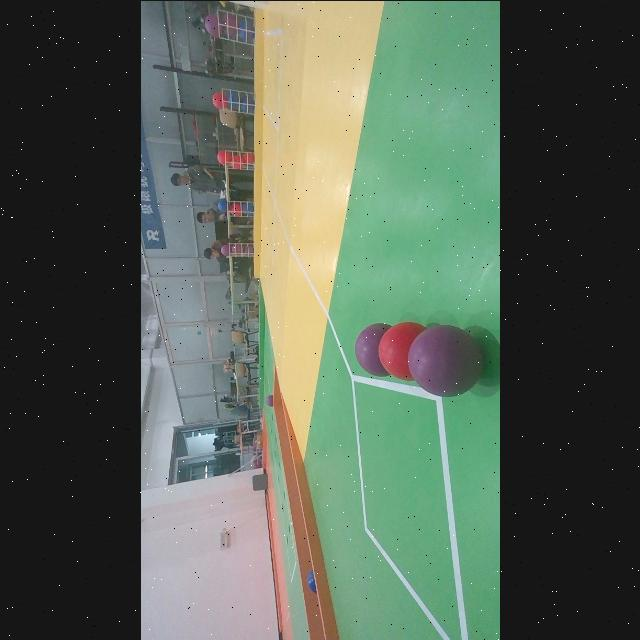B: (349, 320, 401, 378)
P: (408, 324, 484, 396)
R: (378, 321, 428, 379)
